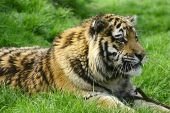Tigre: (11, 12, 157, 101)
